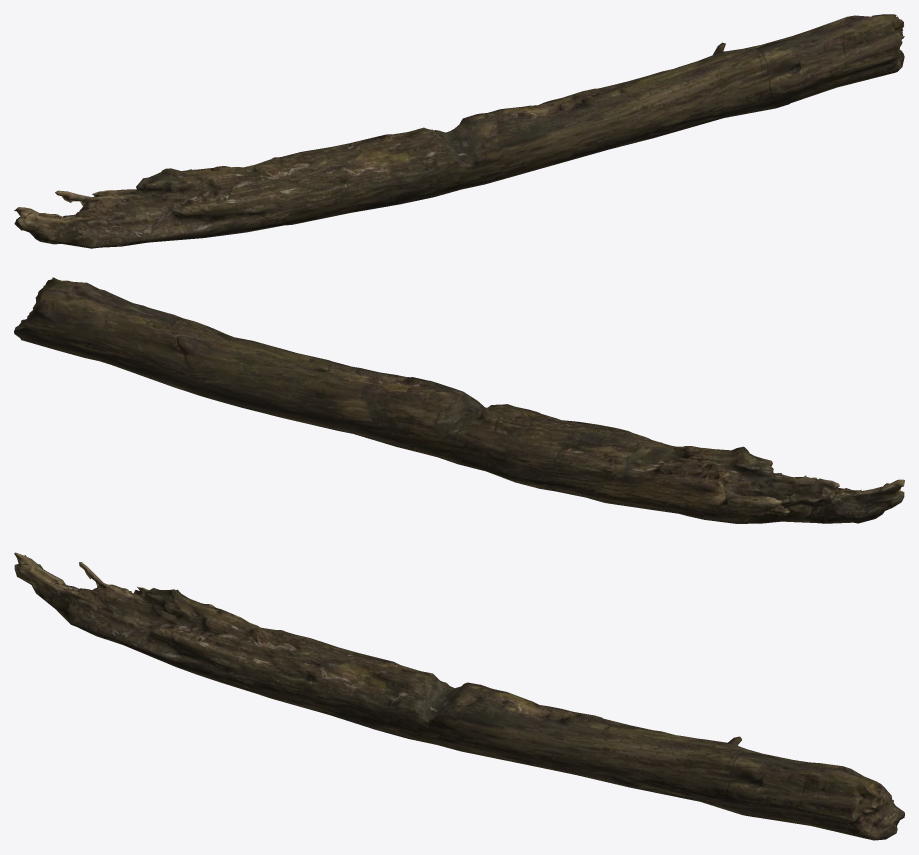
The model's file is dead_tree_trunk.glb.
The picture shows the model from 3 angles, top to bottom: view 1: azimuth 30°, elevation 25°; view 2: azimuth 150°, elevation 25°; view 3: azimuth 330°, elevation 25°; orthographic projection.
Parts seen in each view (by area): view 1: dead_tree_trunk; view 2: dead_tree_trunk; view 3: dead_tree_trunk.
Boxes of the visible parts, left/top/right/bottom form: dead_tree_trunk: left=14, top=14, right=904, bottom=248; dead_tree_trunk: left=14, top=277, right=904, bottom=523; dead_tree_trunk: left=14, top=552, right=904, bottom=840.
Bounding box in the file's own units: 3.05 × 0.2905 × 0.2771.
1 material, 1 textured.
